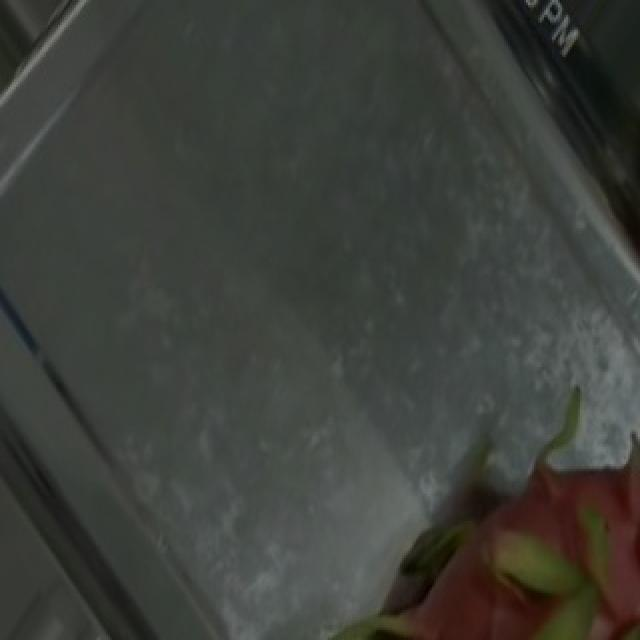fruit: (260, 332, 640, 640)
